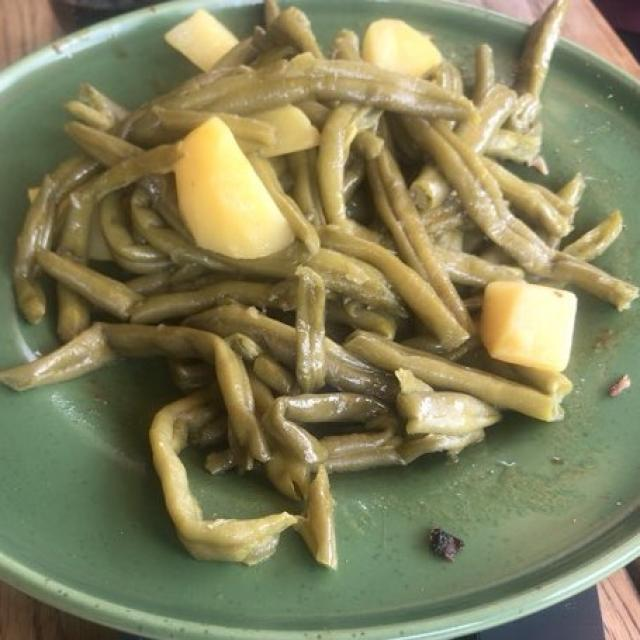green-bean: (16, 19, 618, 555)
potatoes: (170, 8, 579, 365)
